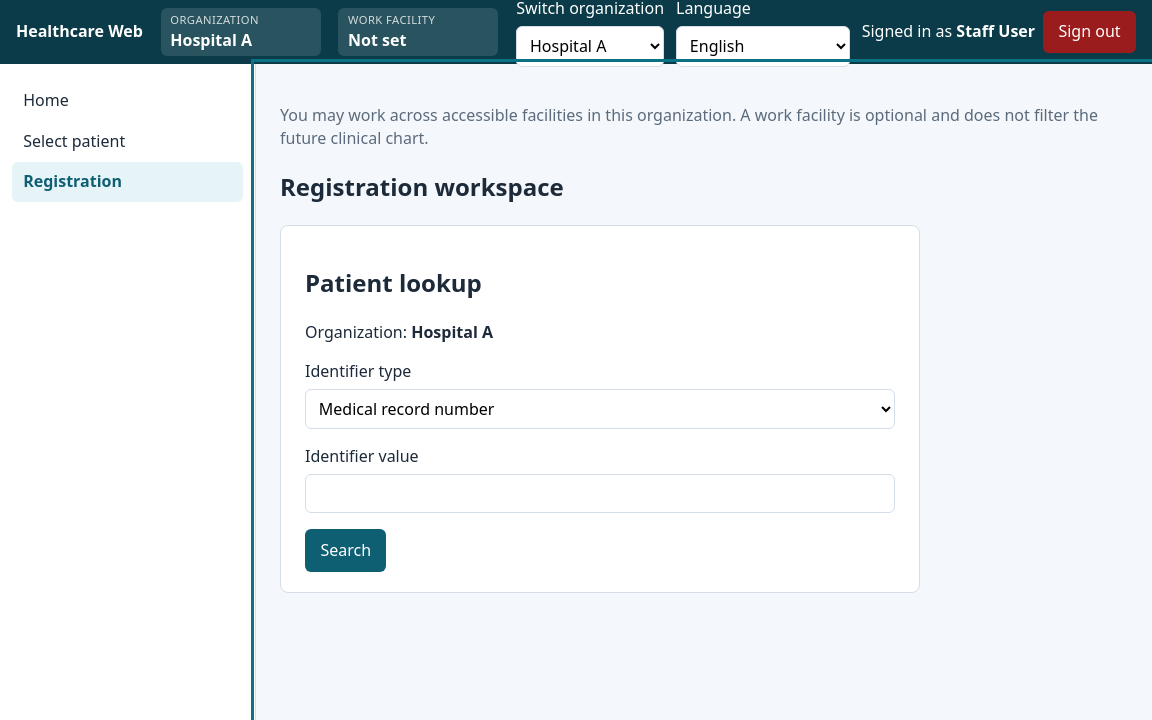
Test: patient lookup hardening › does not restore first-A lookup after A -> B -> A
In the field labelled "Identifier value": [600, 494] box [305, 474, 895, 513], type "FIRST"
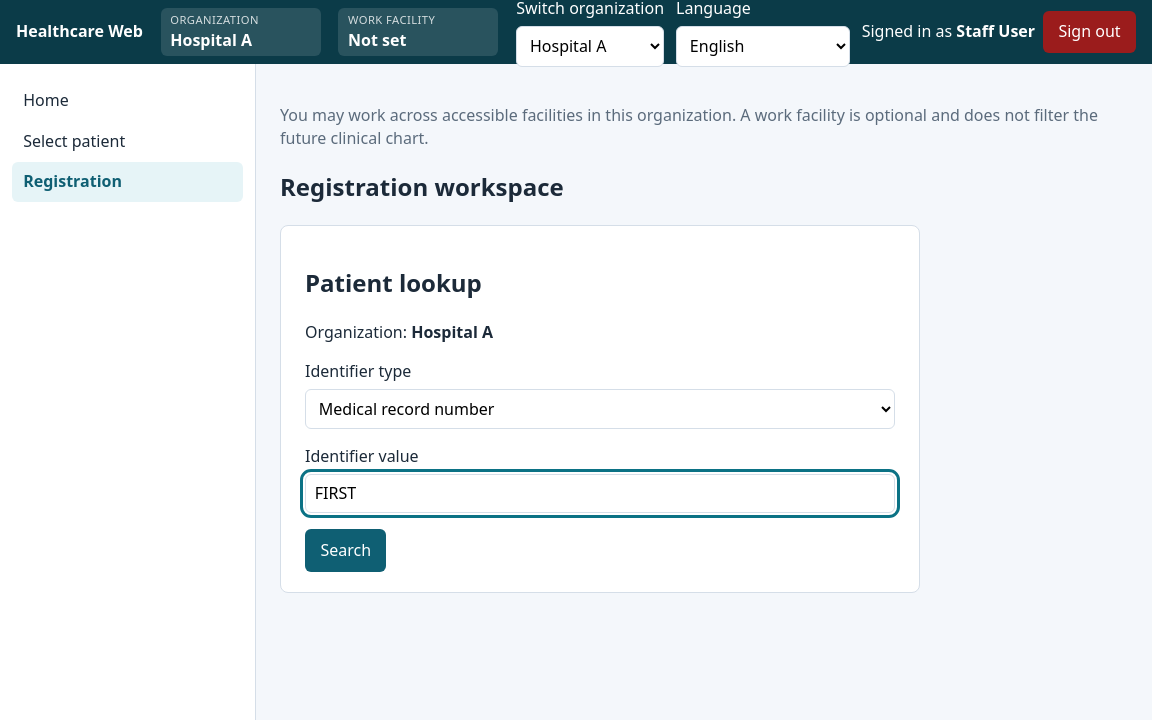
Click the button "Search": [346, 551] box [305, 529, 386, 572]
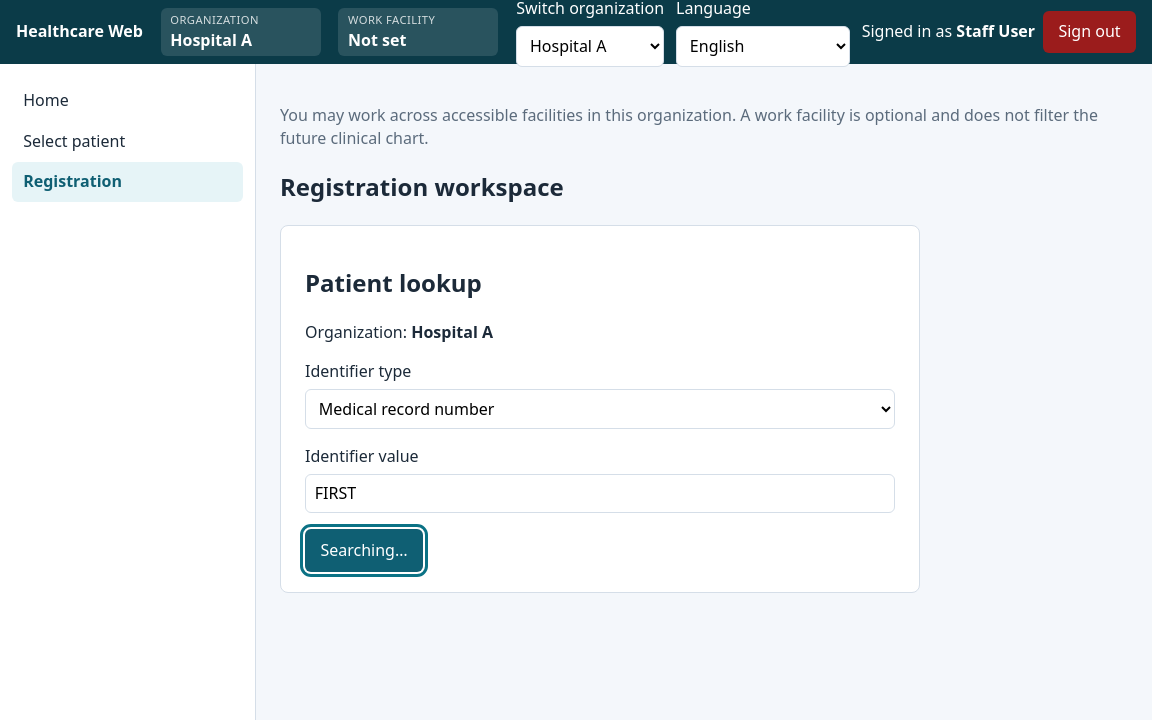
Select "Hospital B" in the dropdown labelled "Switch organization": [590, 46] box [516, 26, 664, 67]
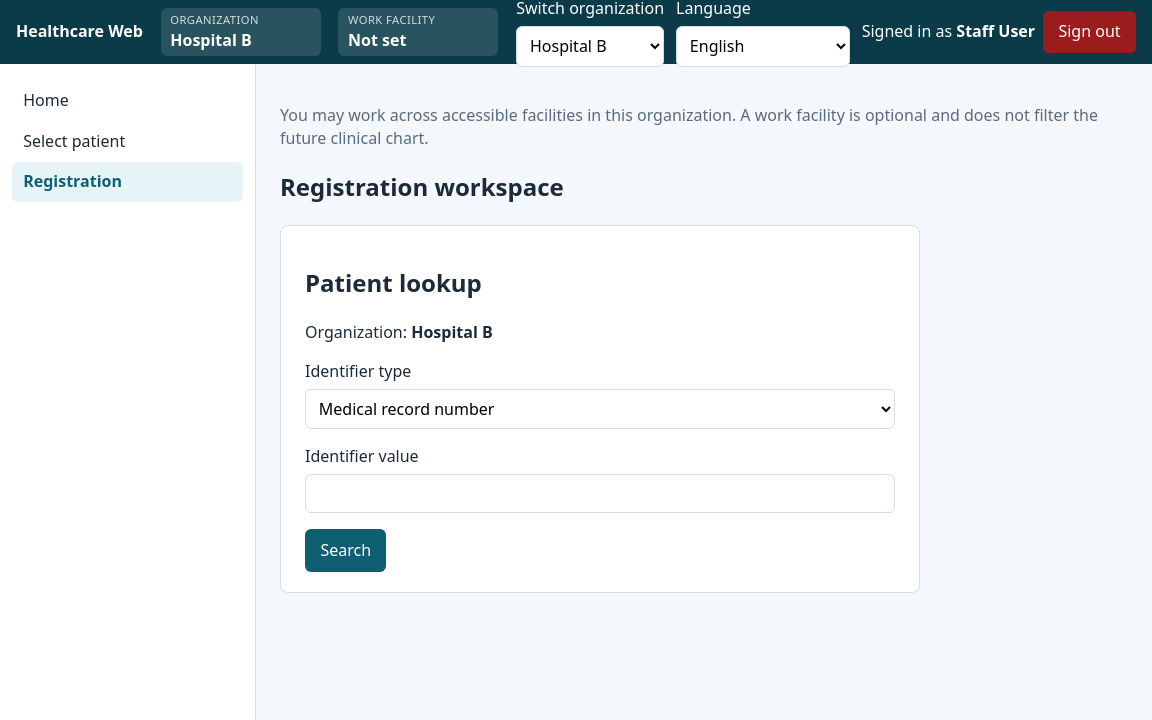
Now the element with test id "active-organization" shows "Hospital B", box [170, 28, 252, 50]
Select "Hospital A" in the dropdown labelled "Switch organization": [590, 46] box [516, 26, 664, 67]
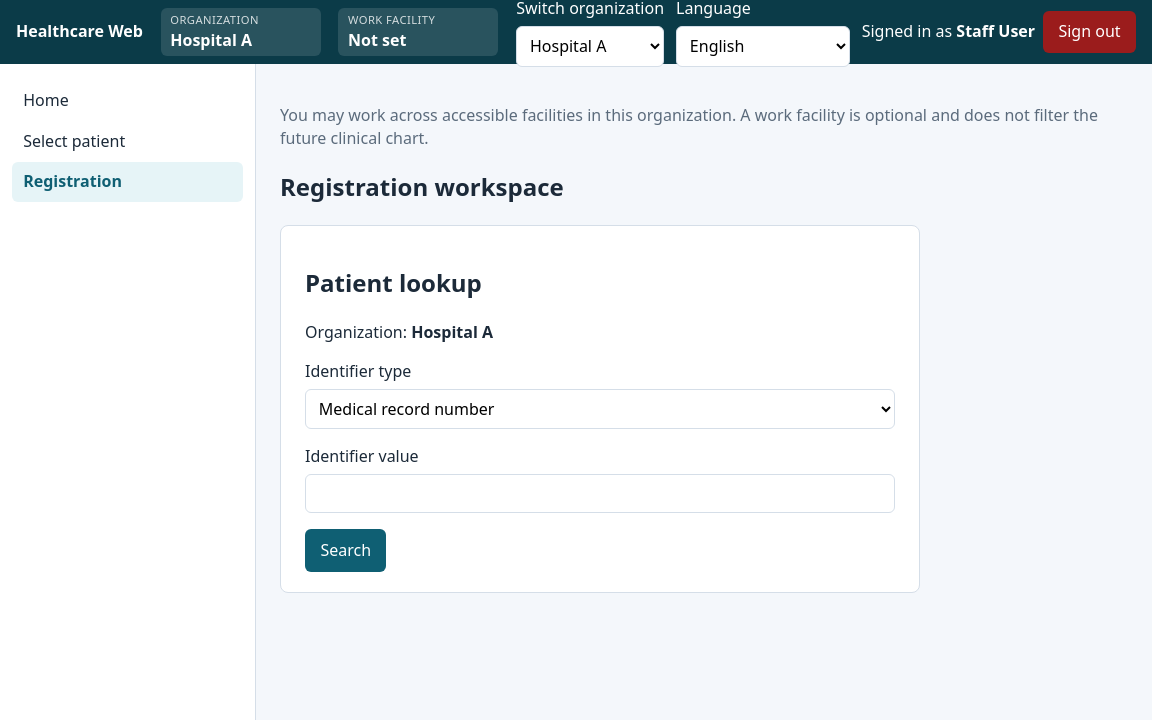
Now the element with test id "active-organization" shows "Hospital A", box [170, 28, 252, 50]
In the field labelled "Identifier value": [600, 494] box [305, 474, 895, 513], type "SECOND"
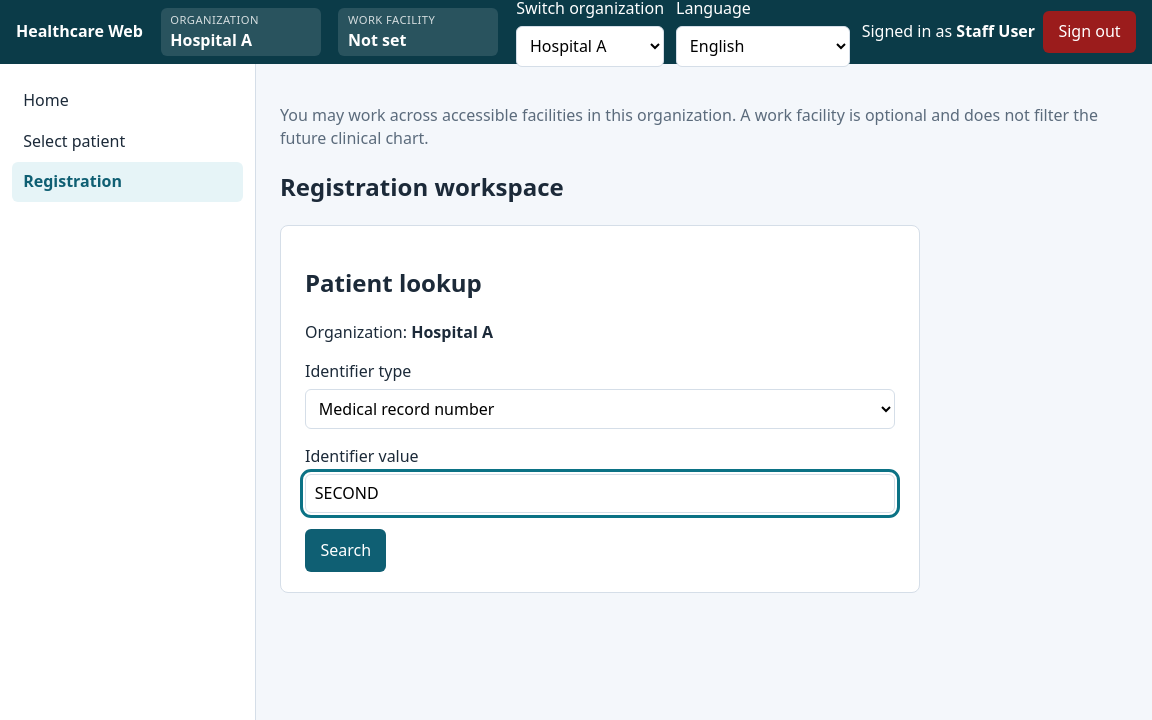
Click the button "Search": [346, 551] box [305, 529, 386, 572]
(page scrolled)
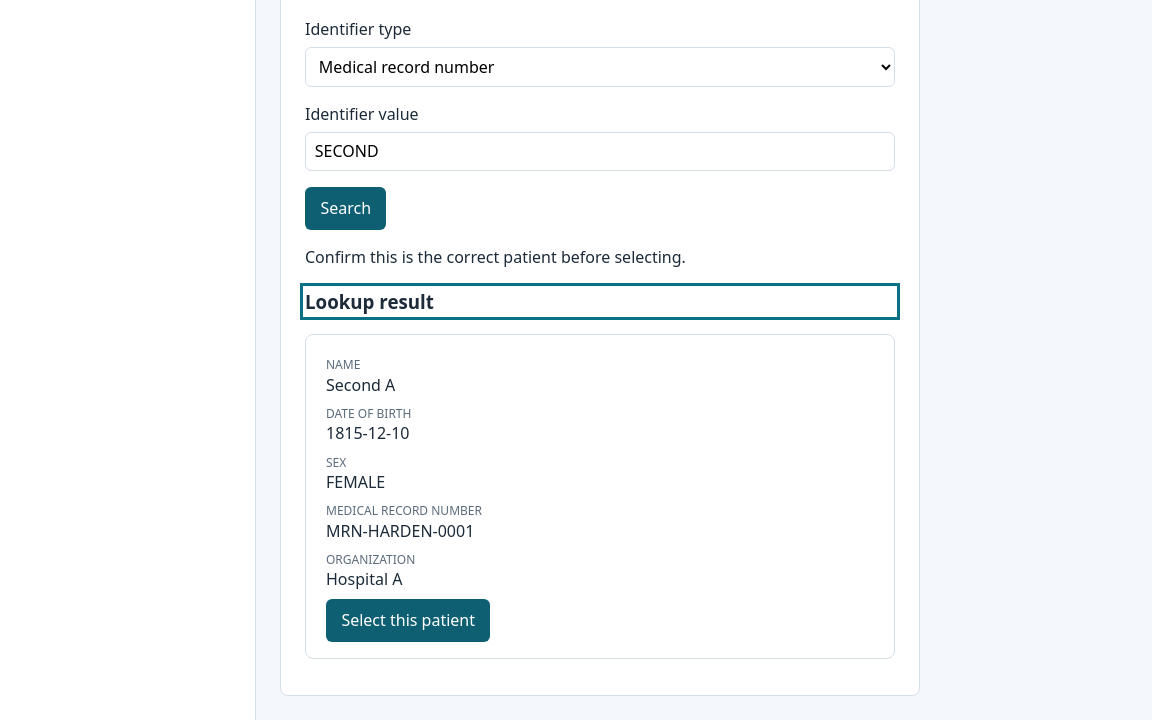
Now the text "Second A" is shown, box [326, 374, 395, 396]
